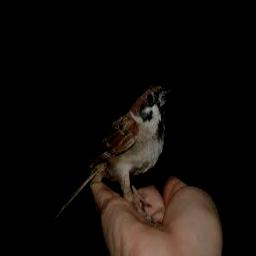Sparrow: (54, 82, 175, 220)
